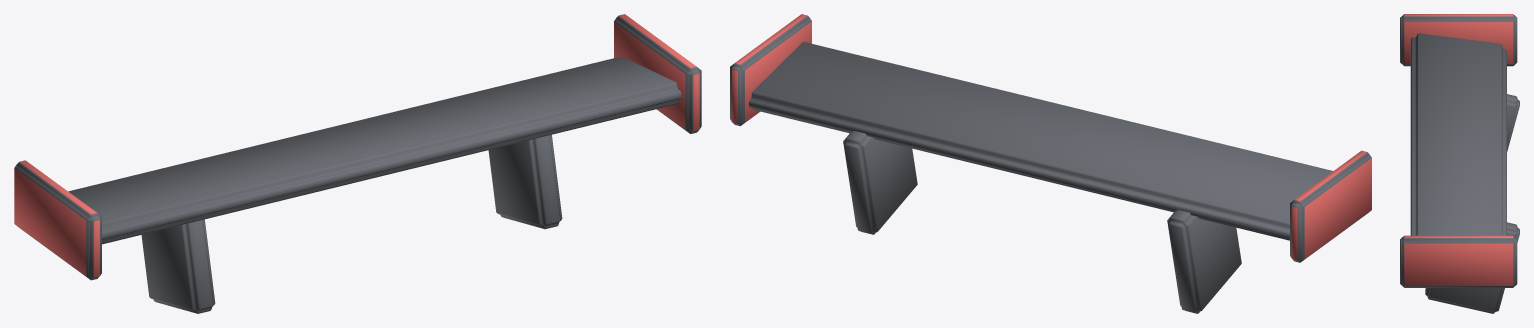
Rendered from OW_CarSpoilerSport.fbx.
3 views of the same model, side by side, from view 1: azimuth 30°, elevation 25°; view 2: azimuth 150°, elevation 25°; view 3: azimuth 270°, elevation 25° (orthographic). The views are drawn at different scales.
Parts seen in each view (by area): view 1: SpoilerWing; view 2: SpoilerWing; view 3: SpoilerWing.
Part boxes in pixels (left/top/right/bottom): SpoilerWing: left=14, top=14, right=701, bottom=313; SpoilerWing: left=730, top=14, right=1371, bottom=313; SpoilerWing: left=1400, top=14, right=1519, bottom=313.
Bounding box in the file's own units: 156 × 38.91 × 34.72.
